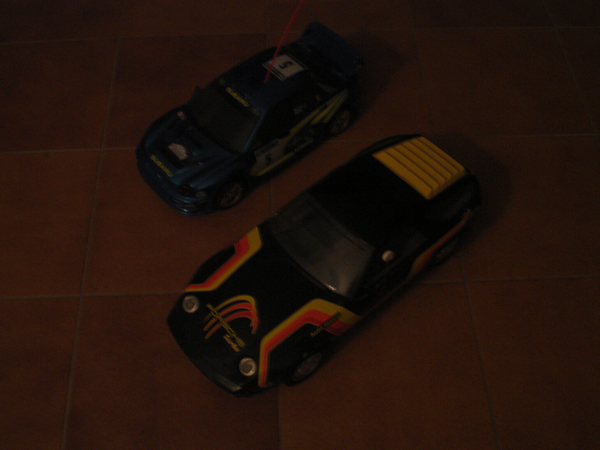car: (160, 123, 494, 417)
